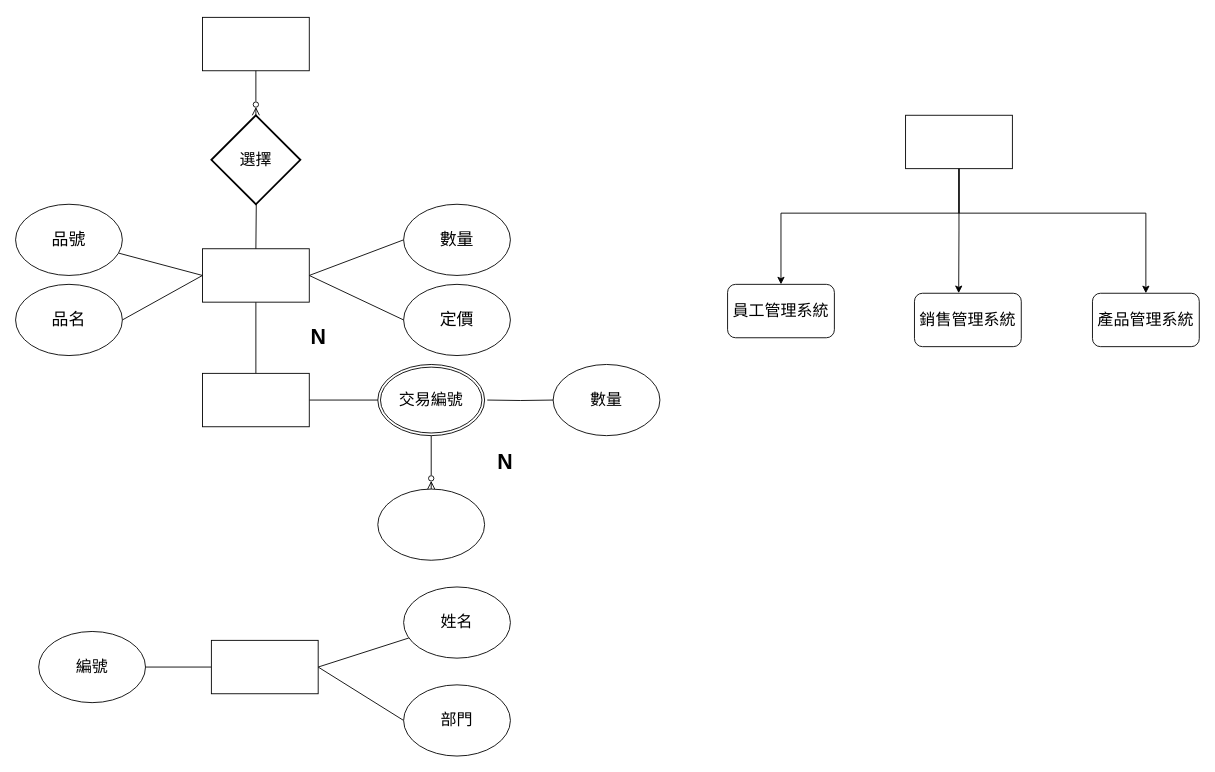
This 1215x772 diagram has some shape labels left out. Here are the shapes that lost their labels. From the top down, the centre of each, then its label:
the point at 255,43: 使用者
the point at 958,141: 販賣機系統
the point at 255,275: 商品
the point at 255,399: 交易
the point at 431,524: 商品名稱
the point at 264,666: 員工
